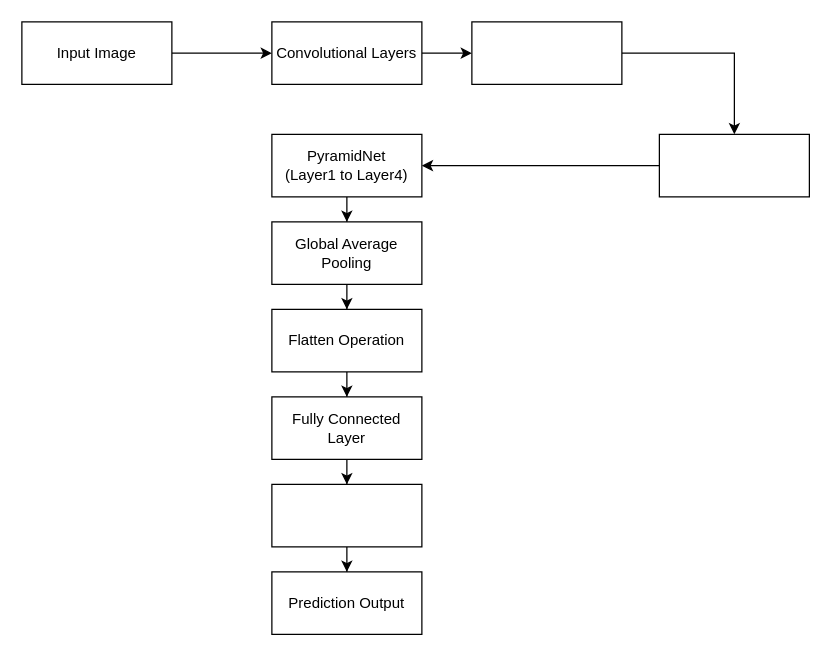
The diagram is 831 pixels wide and 656 high, and some of its shapes have lost their labels. The shapes that lost their labels are listed below. From the top down, each one's centre as x and y in pixels, then its label:
the point at 546,52: Batch Normalisation
the point at 733,165: ReLU Activation
the point at 346,515: Sigmoid Activation
